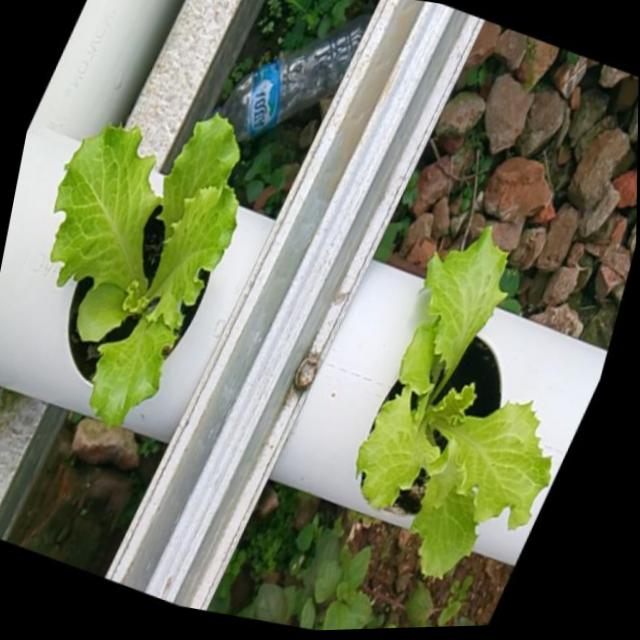Baby: (350, 222, 541, 570), (47, 107, 235, 424)
